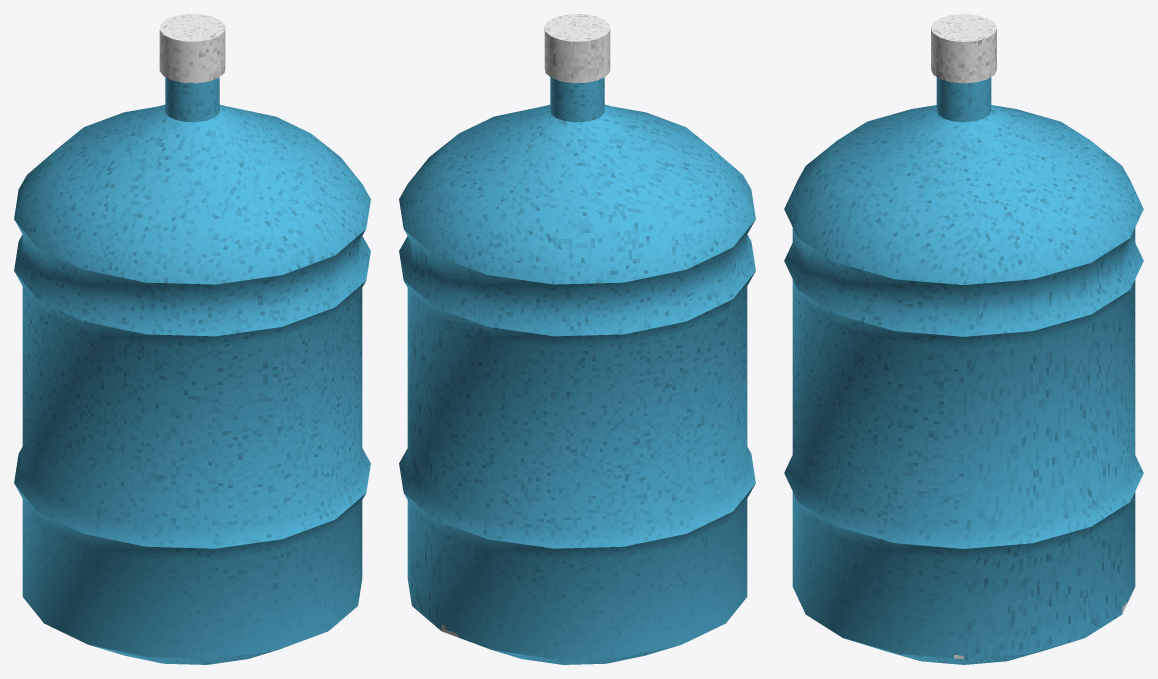
File: water-jar.glb
3 views of the same model, side by side, from view 1: azimuth 30°, elevation 25°; view 2: azimuth 150°, elevation 25°; view 3: azimuth 270°, elevation 25° (orthographic).
Visible parts, largest first — view 1: Cylinder_0; view 2: Cylinder_0; view 3: Cylinder_0.
Part boxes in pixels (bbox=[...]): Cylinder_0: bbox=[14, 14, 370, 664]; Cylinder_0: bbox=[399, 14, 755, 664]; Cylinder_0: bbox=[784, 14, 1143, 664].
Size of the model in its own units: 0.315 by 0.57 by 0.315.
Materials: 1 (1 with a texture image).
